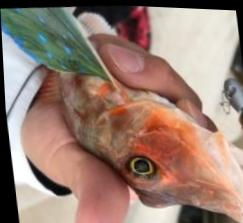fish: (0, 7, 243, 220)
